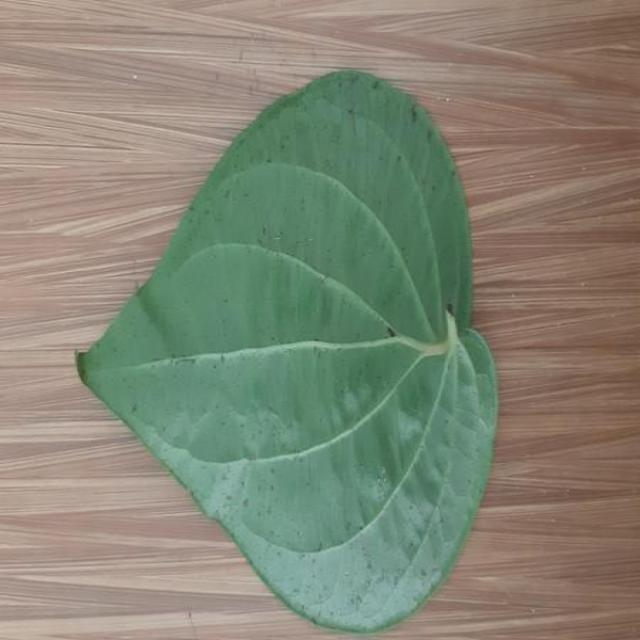betel: (77, 71, 497, 631)
